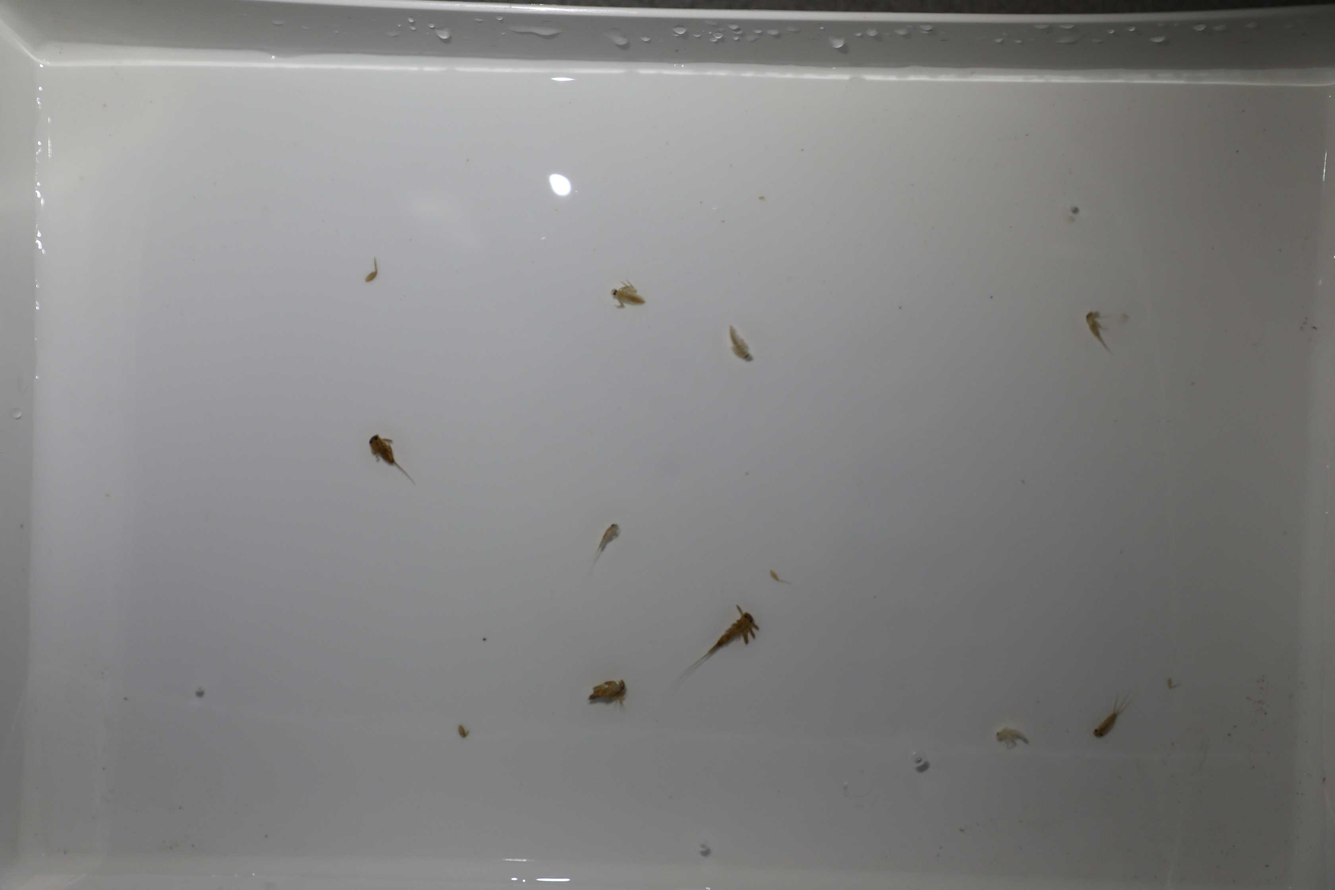Mayfly: (684, 598, 758, 685), (362, 434, 419, 482), (1080, 307, 1126, 365), (580, 522, 619, 580), (571, 674, 632, 708), (723, 324, 756, 368), (1090, 703, 1124, 741), (609, 281, 649, 312), (987, 727, 1032, 750)
